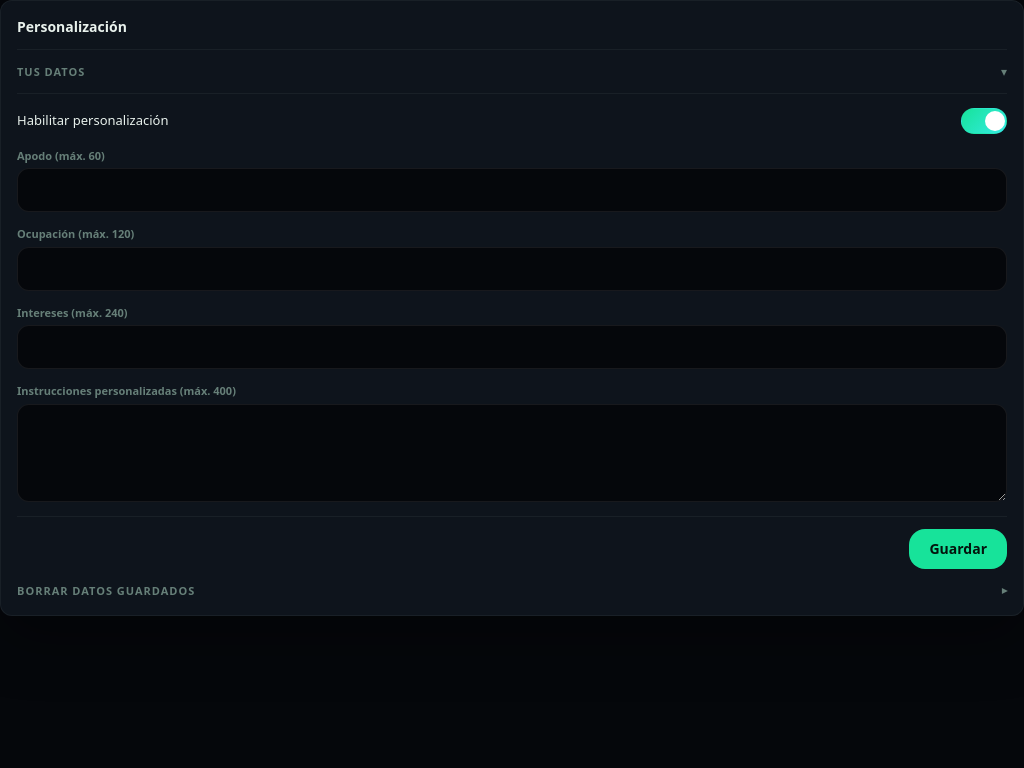
Scenario: PersonalizationCard Limpiar — confirm step (DELETE /api/personalization) › surfaces a 503 write failure honestly
Click the button "Borrar datos guardados ▾": (106, 590) 17,582 -> 1007,599
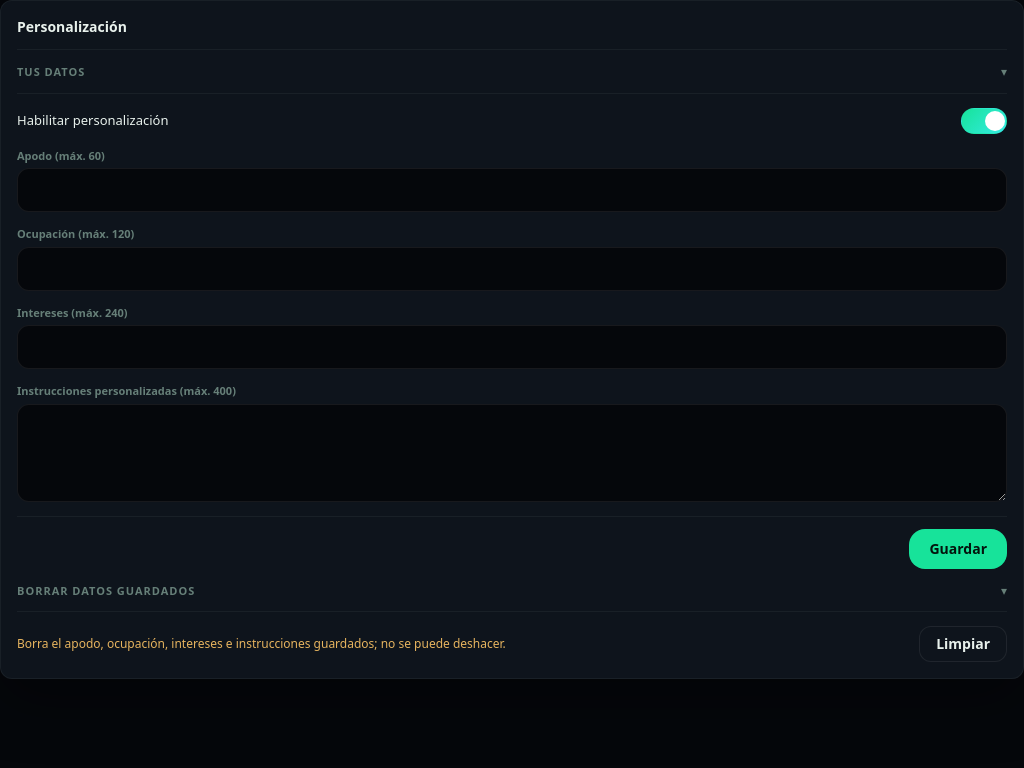
Click the button "Limpiar": (963, 644) 919,626 -> 1007,662
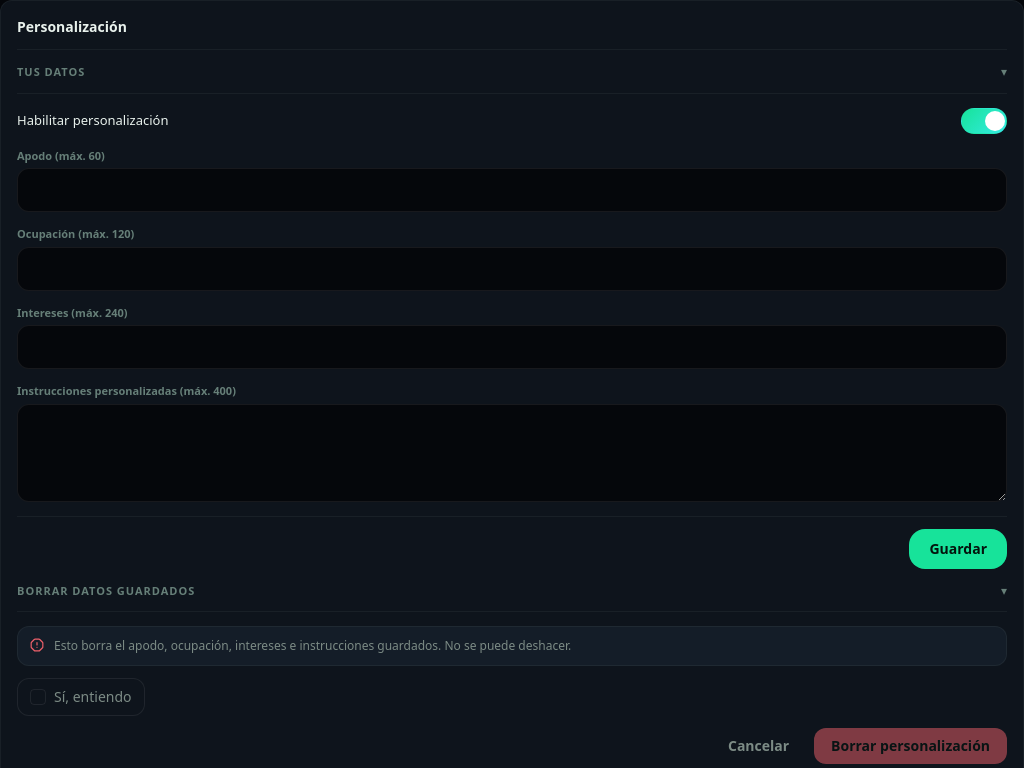
Click the button "Sí, entiendo": (81, 697) 17,678 -> 144,716
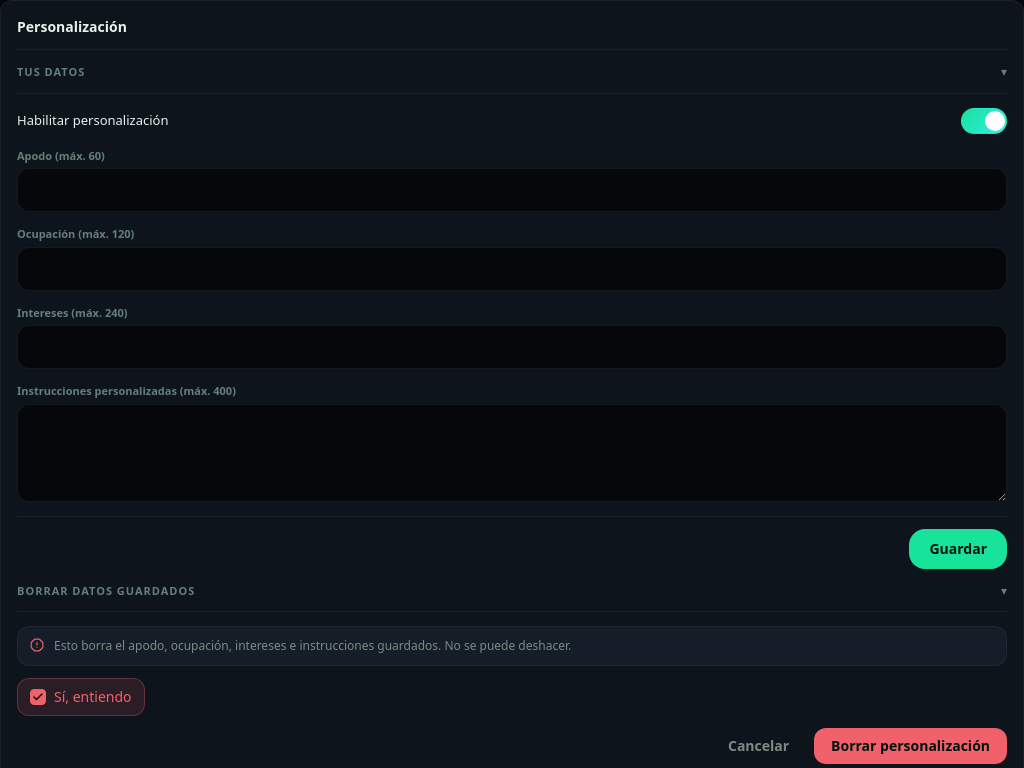
Click the button "Borrar personalización": (911, 746) 814,728 -> 1007,764
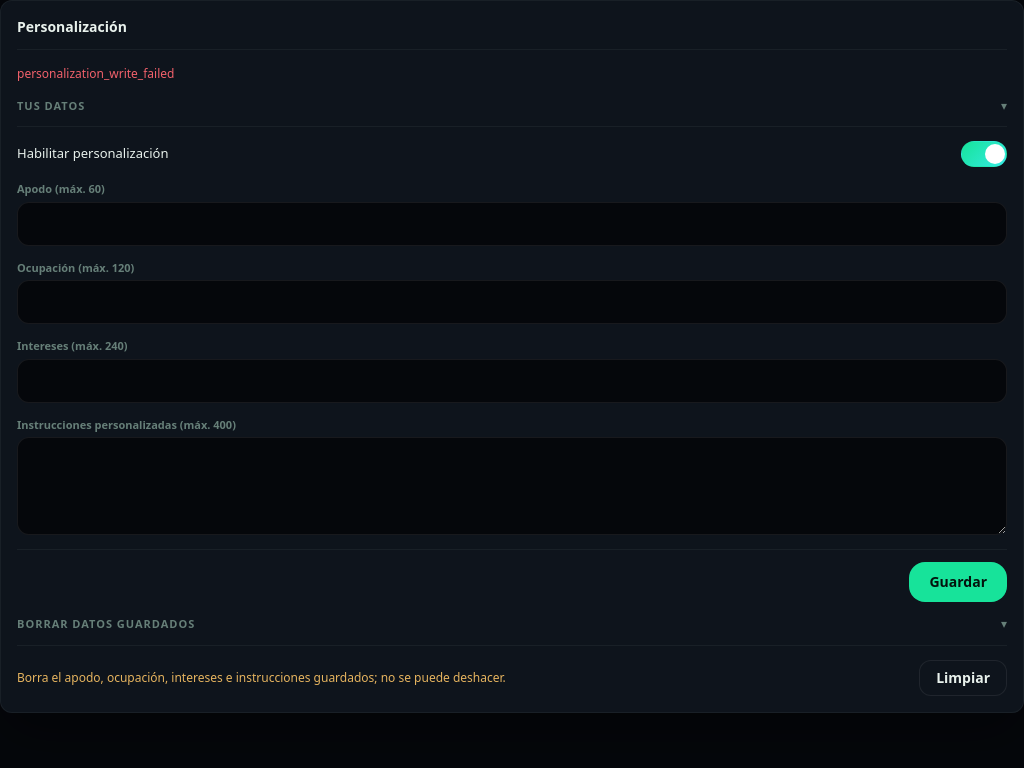
Check: the message reads "personalization_write_failed", box 17,65 -> 174,82
